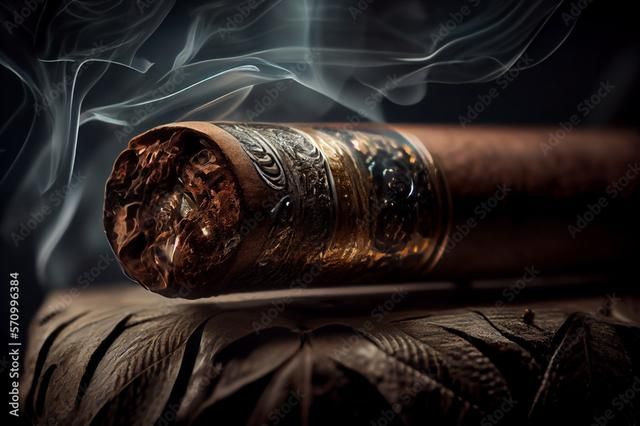Cigar: (101, 118, 640, 299)
